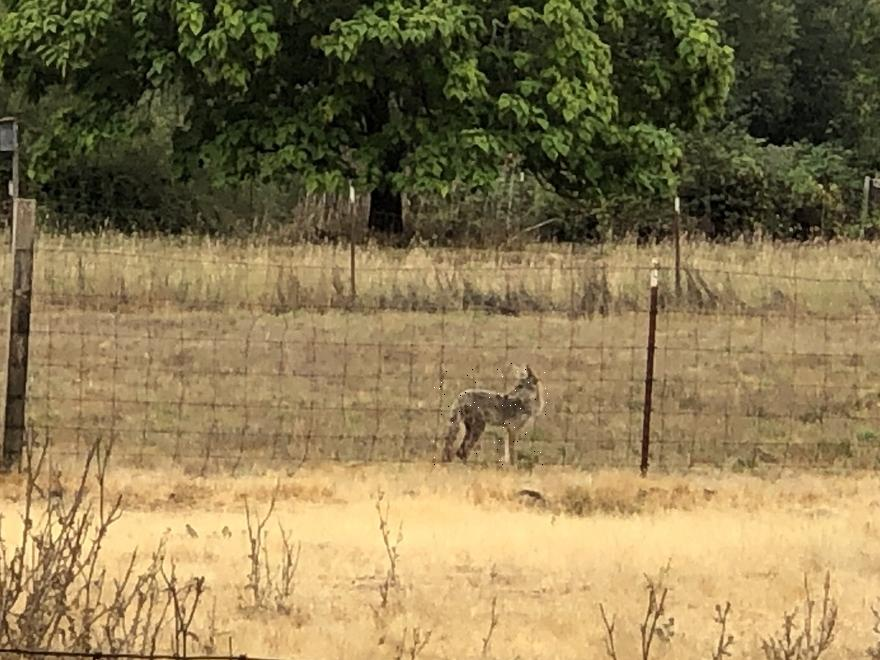Coyote: (432, 363, 550, 465)
